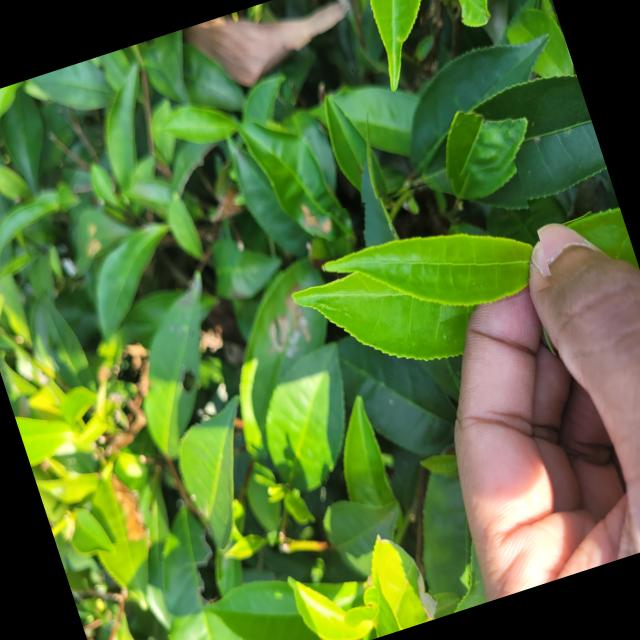Catagory A(1-2 days): (306, 150, 554, 350)
